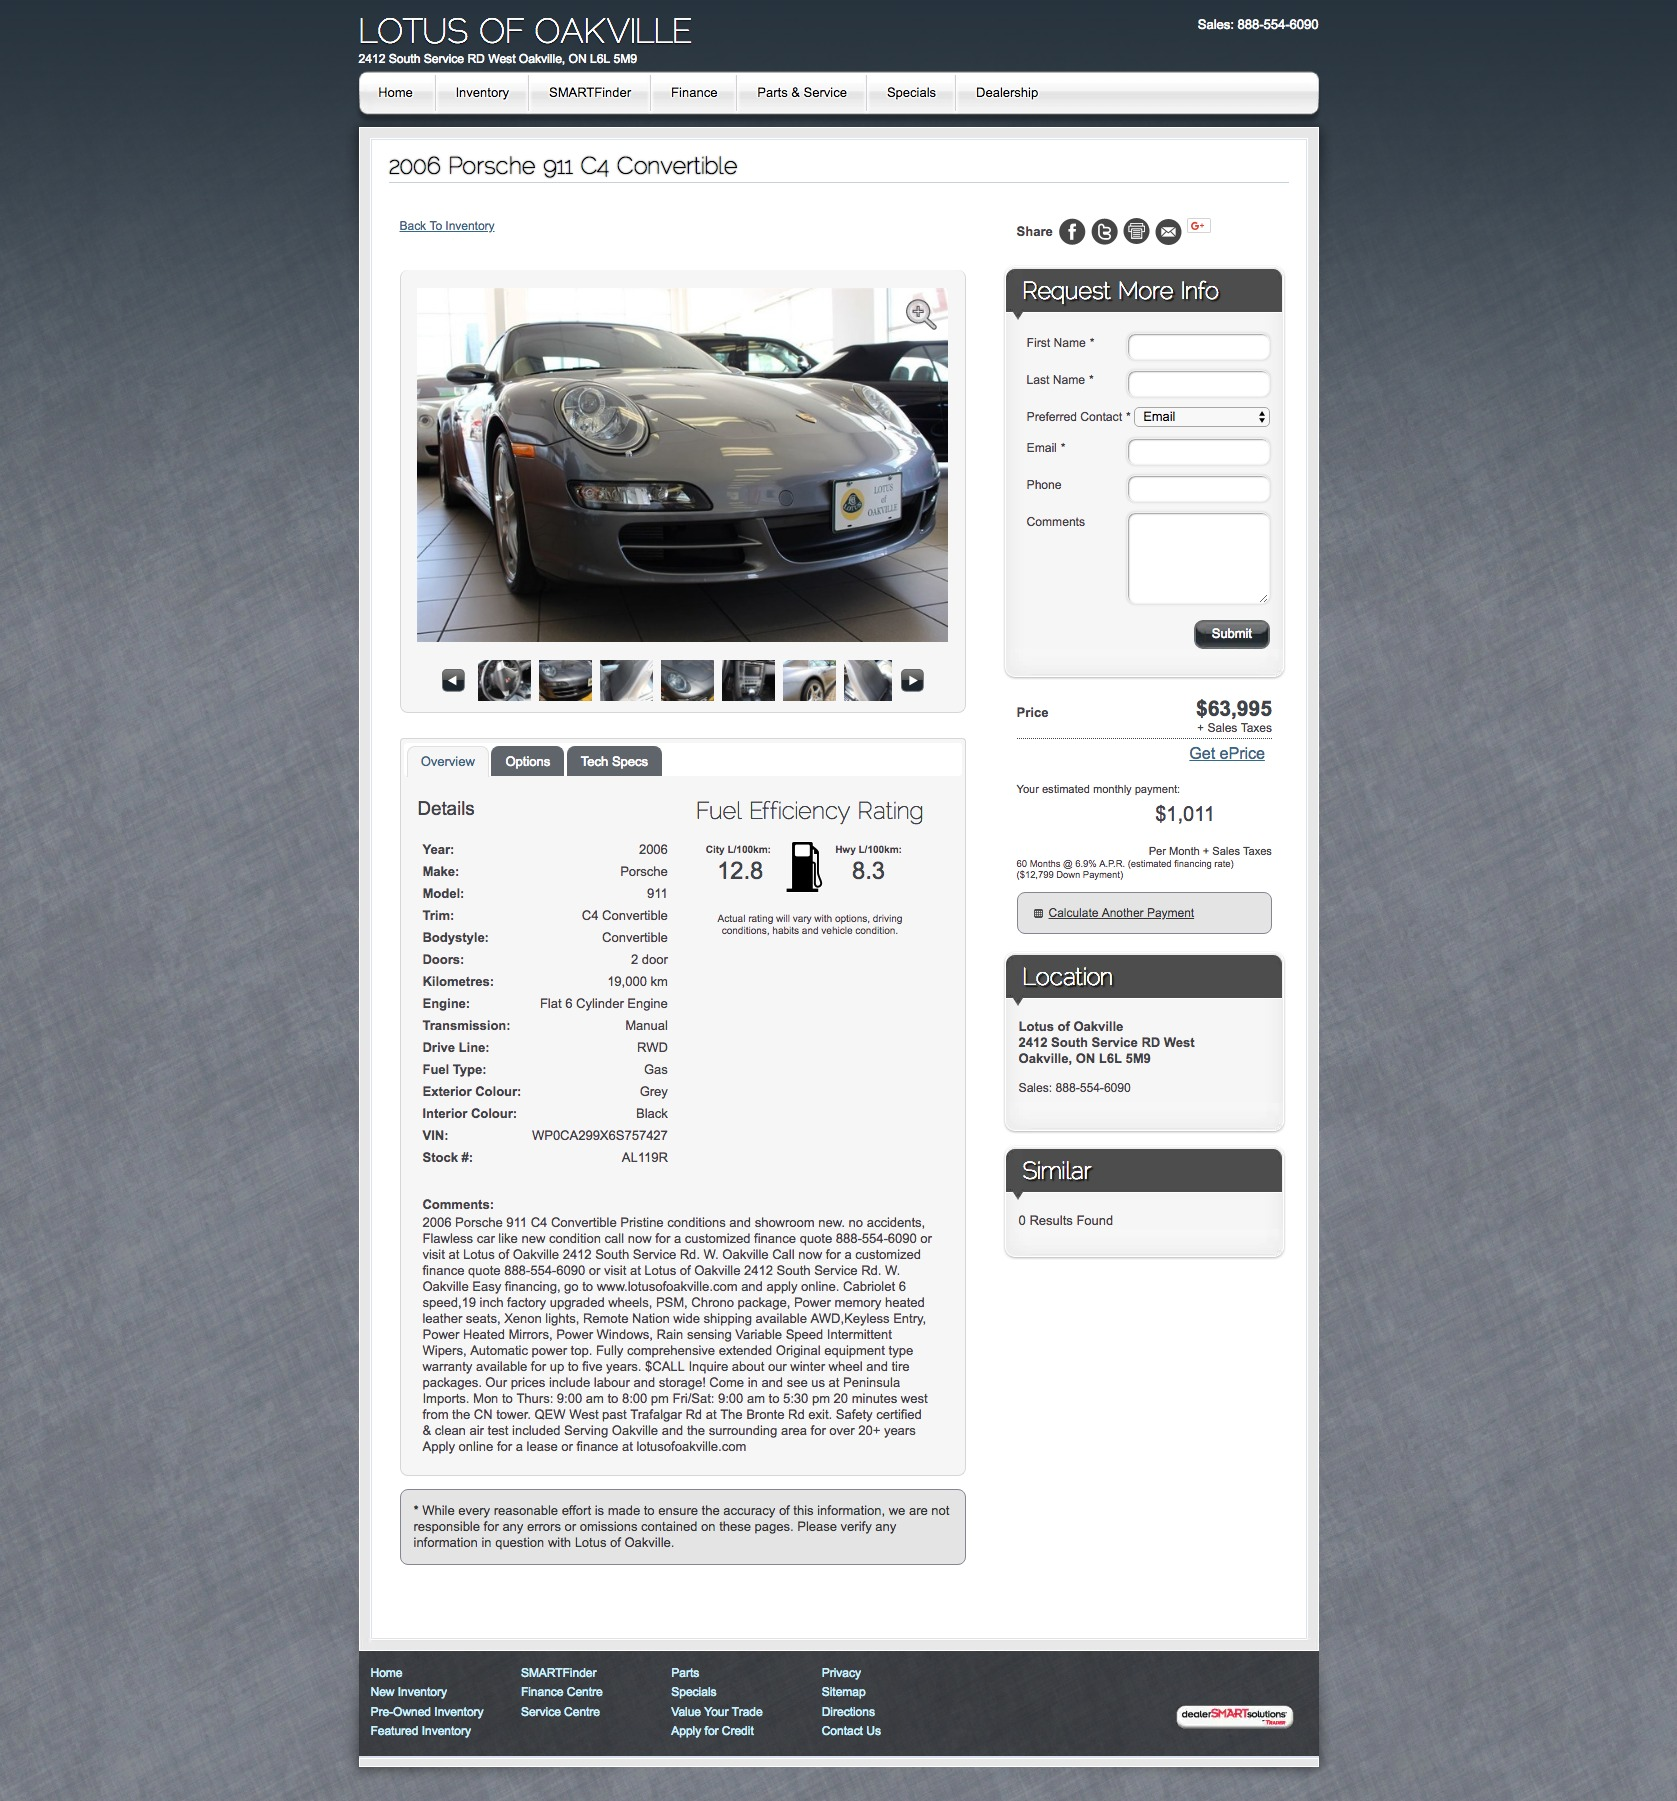car: (909, 676, 919, 689)
